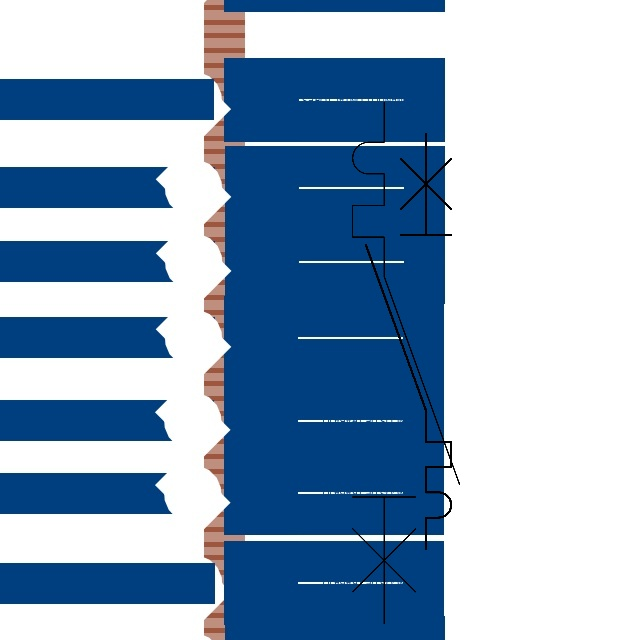interruptor_termomagnetico: (339, 89, 473, 637), (355, 123, 462, 560)
